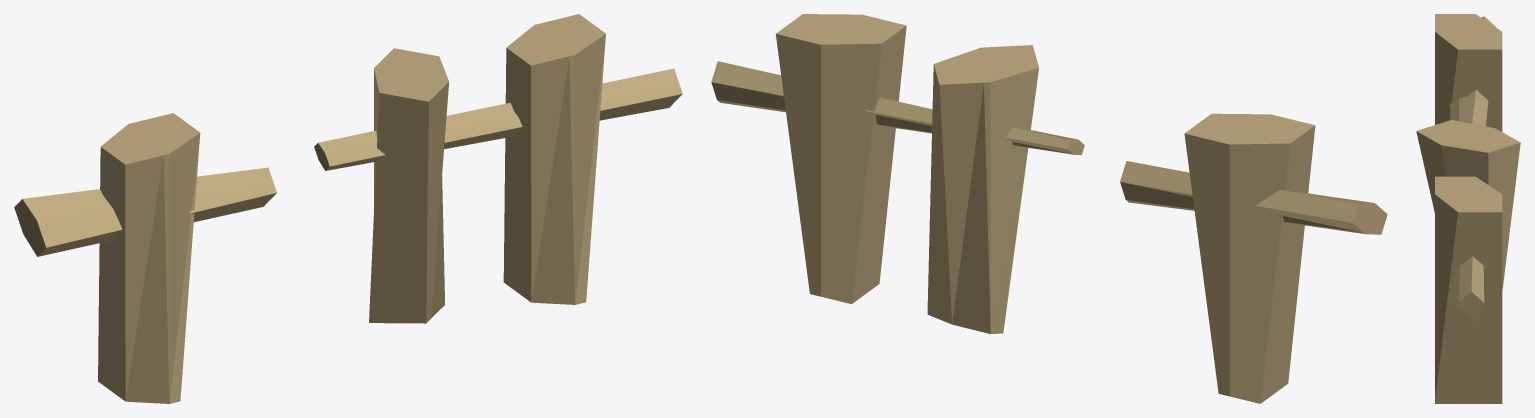
Rendered from fences.fbx.
3 renders of one model, left to right at view 1: azimuth 30°, elevation 25°; view 2: azimuth 150°, elevation 25°; view 3: azimuth 270°, elevation 25°, orthographic. The views are drawn at different scales.
Parts seen in each view (by area): view 1: fence2, fence1; view 2: fence2, fence1; view 3: fence2, fence1.
Part boxes in pixels (x1,y1,x2,y2): fence2: [314, 14, 682, 323]; fence1: [14, 113, 276, 403]; fence2: [711, 14, 1084, 333]; fence1: [1120, 113, 1387, 403]; fence2: [1416, 120, 1520, 403]; fence1: [1435, 14, 1502, 131].
Size of the model in its own units: 5.21 by 1.92 by 0.8868.
